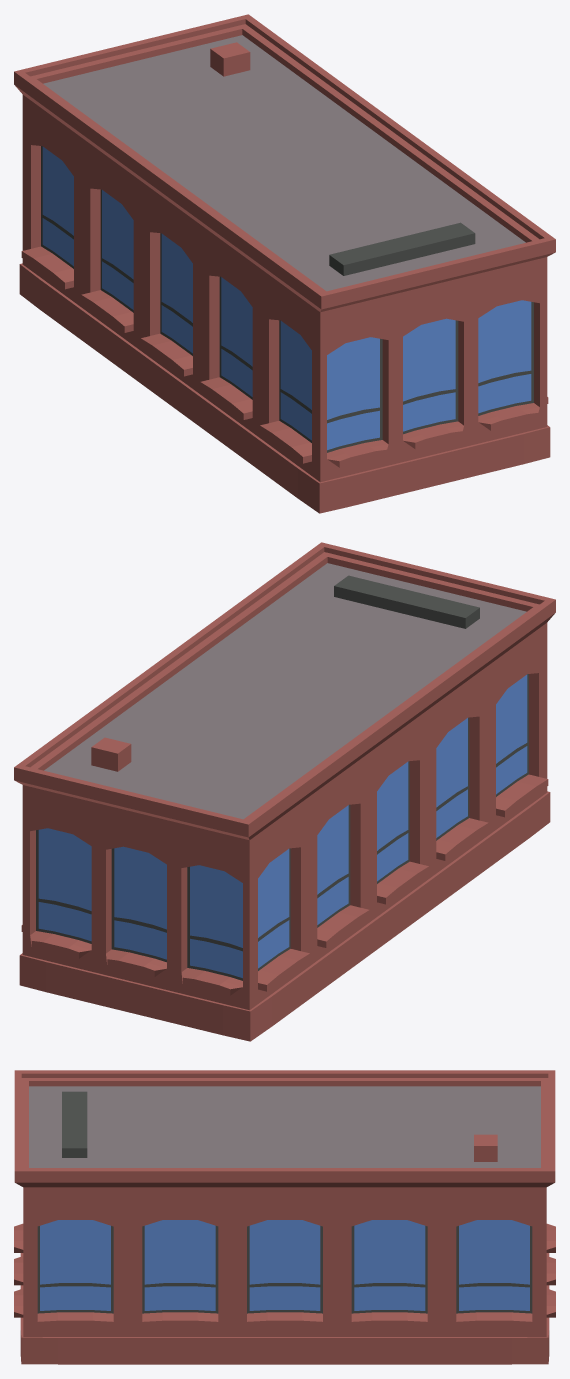
File: building_1x2_2_r.glb
3 renders of one model, top to bottom at view 1: azimuth 30°, elevation 25°; view 2: azimuth 150°, elevation 25°; view 3: azimuth 270°, elevation 25°, orthographic. The views are drawn at different scales.
Parts seen in each view (by area): view 1: ThirdFloor; view 2: ThirdFloor; view 3: ThirdFloor.
Boxes of the visible parts, x1,y1,x2,y2 form: ThirdFloor: (14, 14, 555, 513); ThirdFloor: (14, 542, 555, 1041); ThirdFloor: (14, 1070, 555, 1364).
Size of the model in its own units: 1.76 by 1.56 by 3.83.
